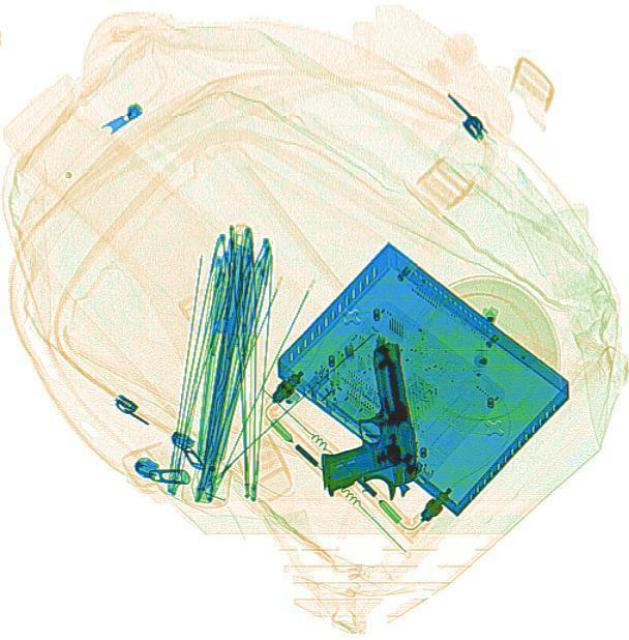Gun: (296, 338, 425, 510)
